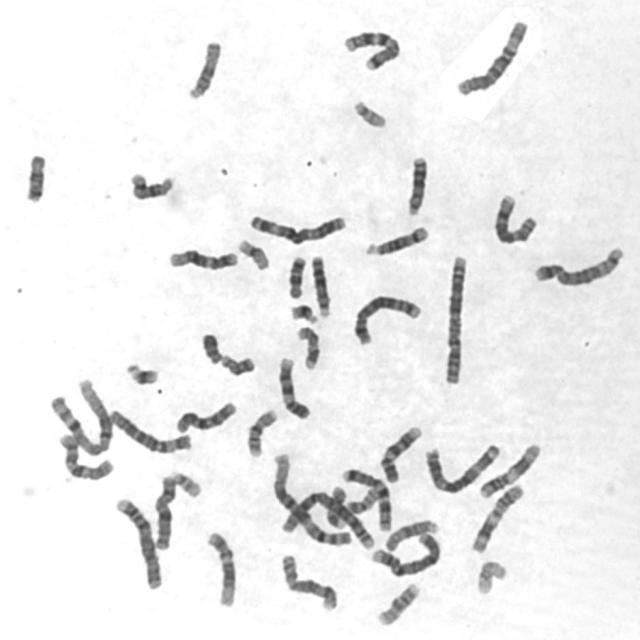A1: (268, 448, 371, 550), (46, 373, 114, 457)
A2: (270, 485, 378, 550), (439, 249, 470, 387)
A3: (420, 437, 502, 496), (244, 207, 348, 246)
B4: (112, 492, 164, 592), (366, 527, 444, 579)
B5: (528, 242, 626, 288), (349, 289, 424, 347)
C10: (53, 428, 116, 482), (171, 396, 239, 436)
C11: (466, 478, 526, 555), (473, 438, 544, 500)
C12: (202, 526, 238, 608), (163, 243, 241, 272)
C6: (451, 14, 531, 98), (106, 405, 194, 455)
C7: (337, 463, 394, 532), (338, 23, 402, 72)
C8: (276, 550, 340, 612), (488, 188, 540, 246)
C9: (376, 420, 424, 485), (273, 351, 312, 421)
D13: (401, 150, 429, 217), (306, 250, 332, 318)
D14: (360, 220, 431, 258), (130, 172, 174, 202)
D15: (182, 35, 224, 101), (380, 514, 439, 552)
E16: (372, 578, 422, 628), (242, 404, 280, 459)
E17: (292, 321, 322, 372), (326, 485, 348, 530)
E18: (19, 148, 49, 205), (283, 251, 308, 299)
F19: (472, 554, 509, 596), (234, 233, 272, 272)
F20: (342, 483, 382, 516), (215, 349, 256, 378)
G21: (120, 356, 162, 388), (285, 299, 321, 325)
G22: (348, 94, 388, 129), (167, 466, 203, 499)
X: (148, 470, 178, 551)
Y: (197, 328, 223, 366)
